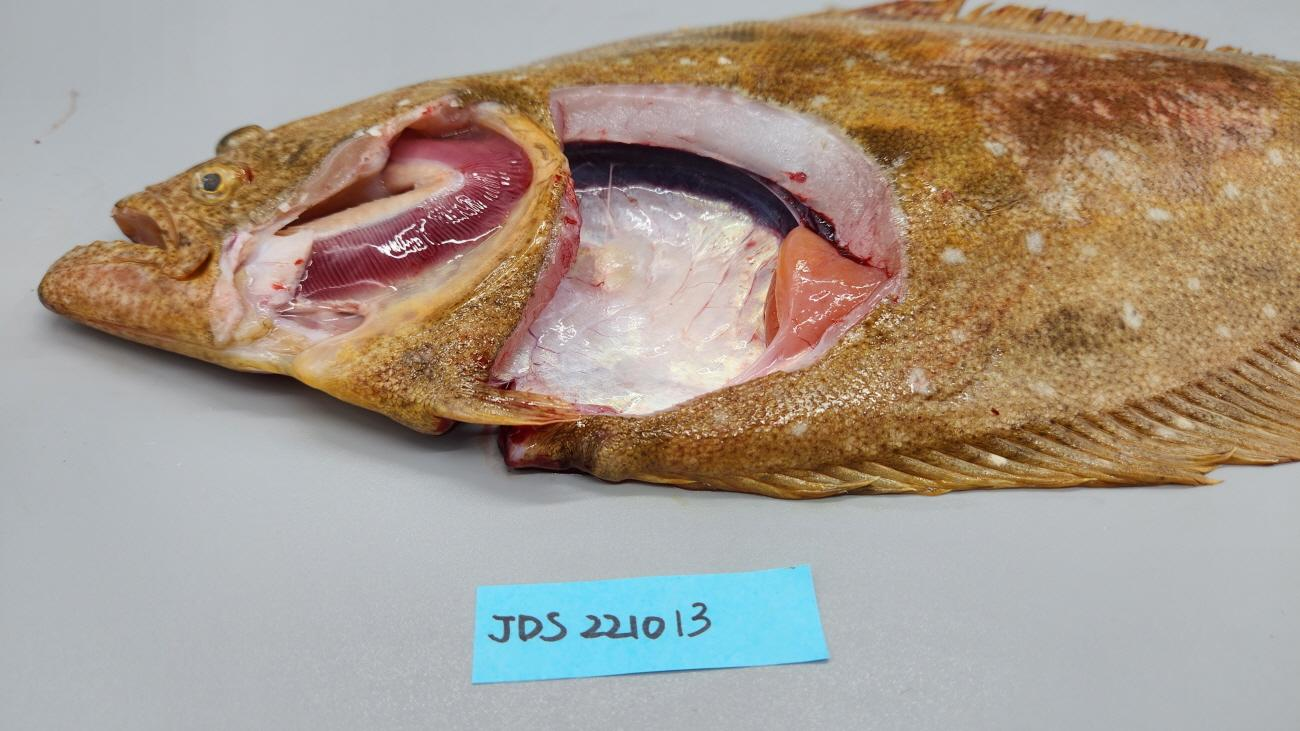POASN: (491, 182, 781, 415)
POKIN: (562, 139, 798, 241)
